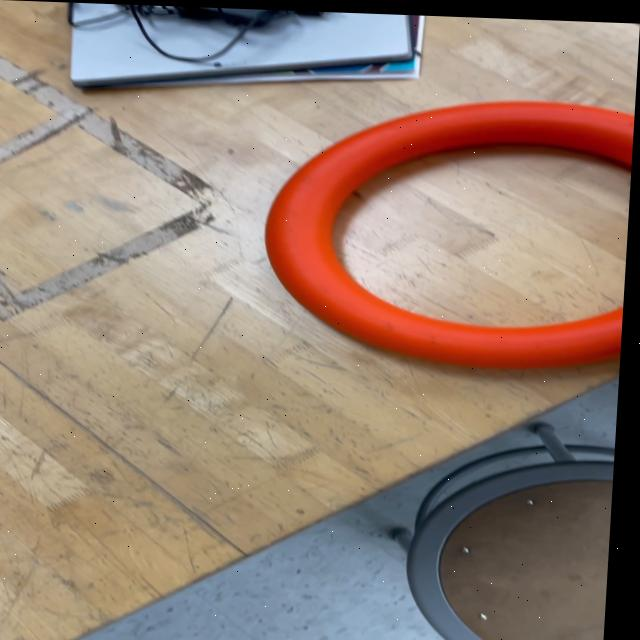note: (259, 88, 636, 368)
